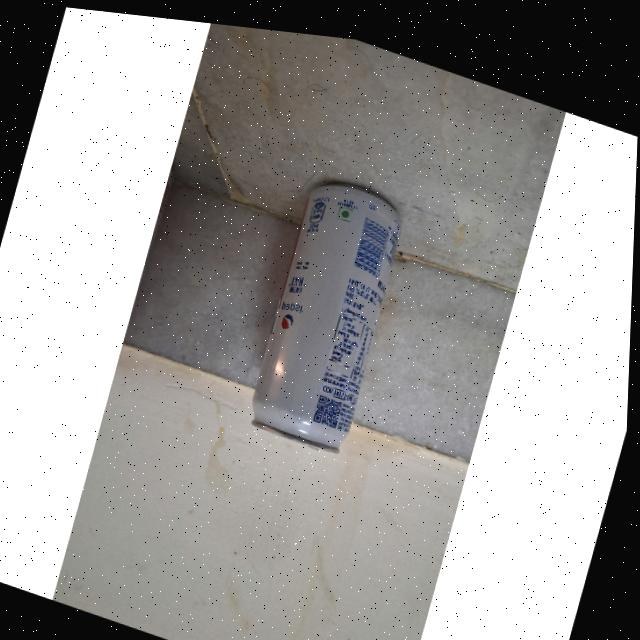Pepsi Retro: (229, 129, 426, 472)
